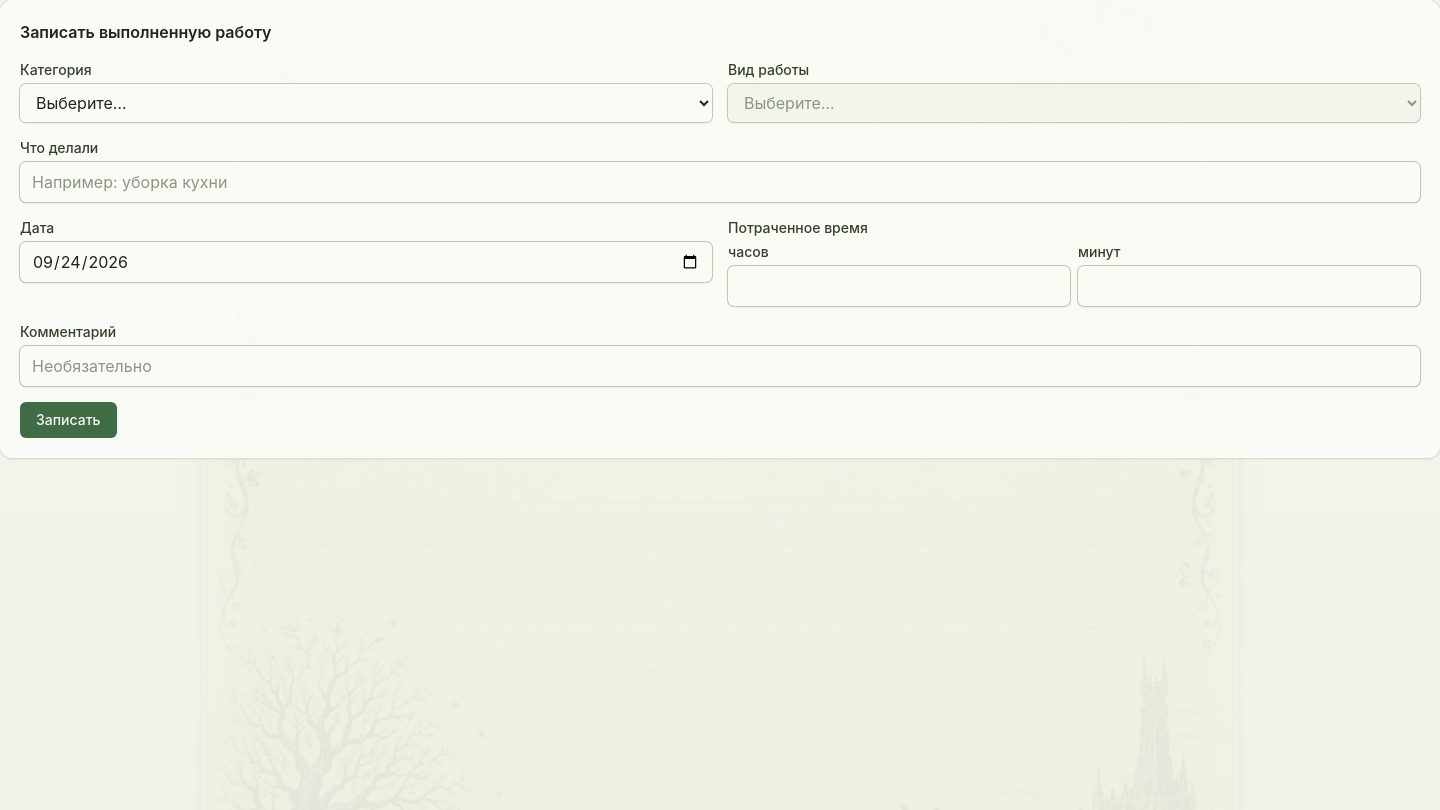
ActivityForm › требует выбрать вид работы
Select "🏠 Домашние обязанности" in the dropdown labelled "Категория": (366, 103) [20,84,712,122]
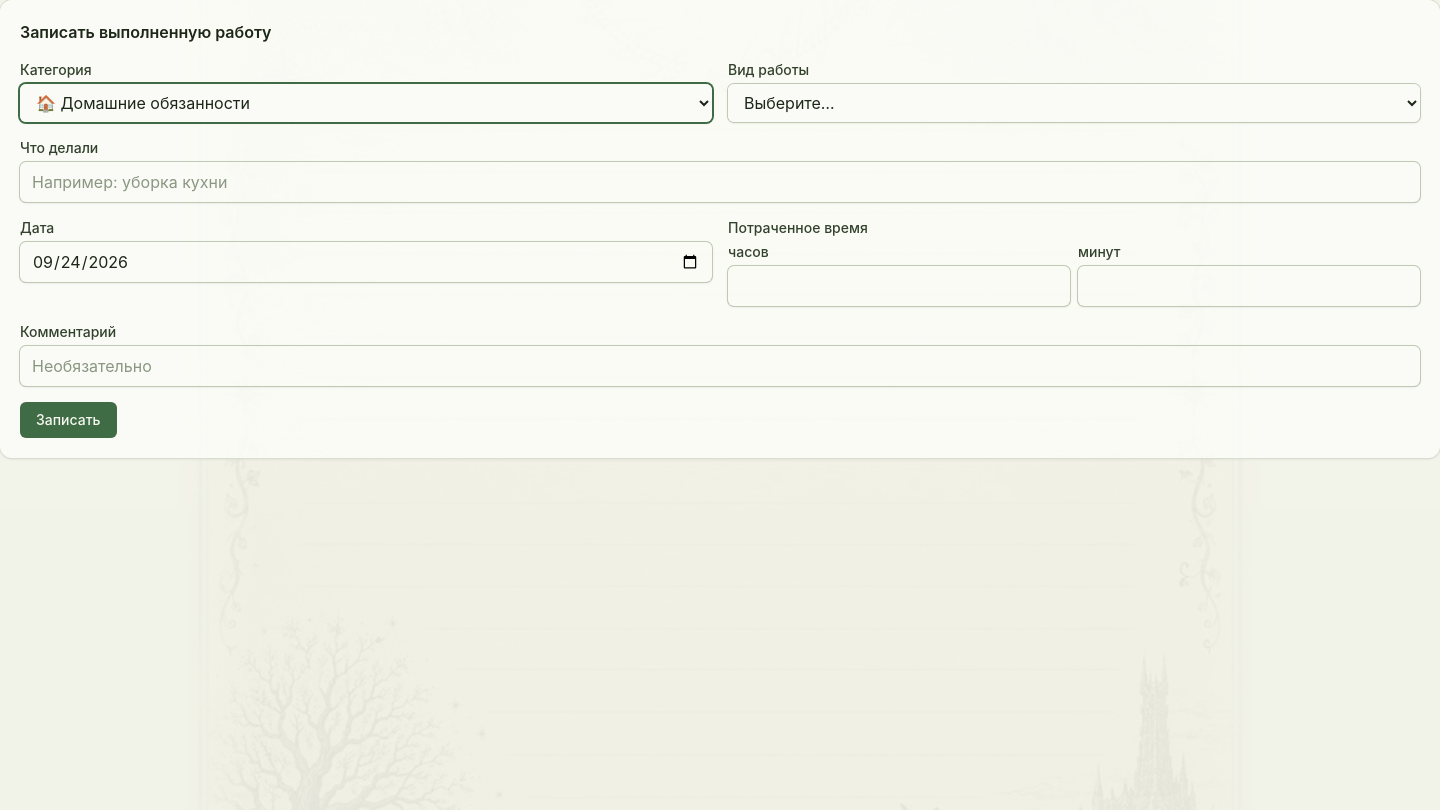
In the field labelled "Что делали": (720, 182) [20,162,1420,202], type "Что-то"
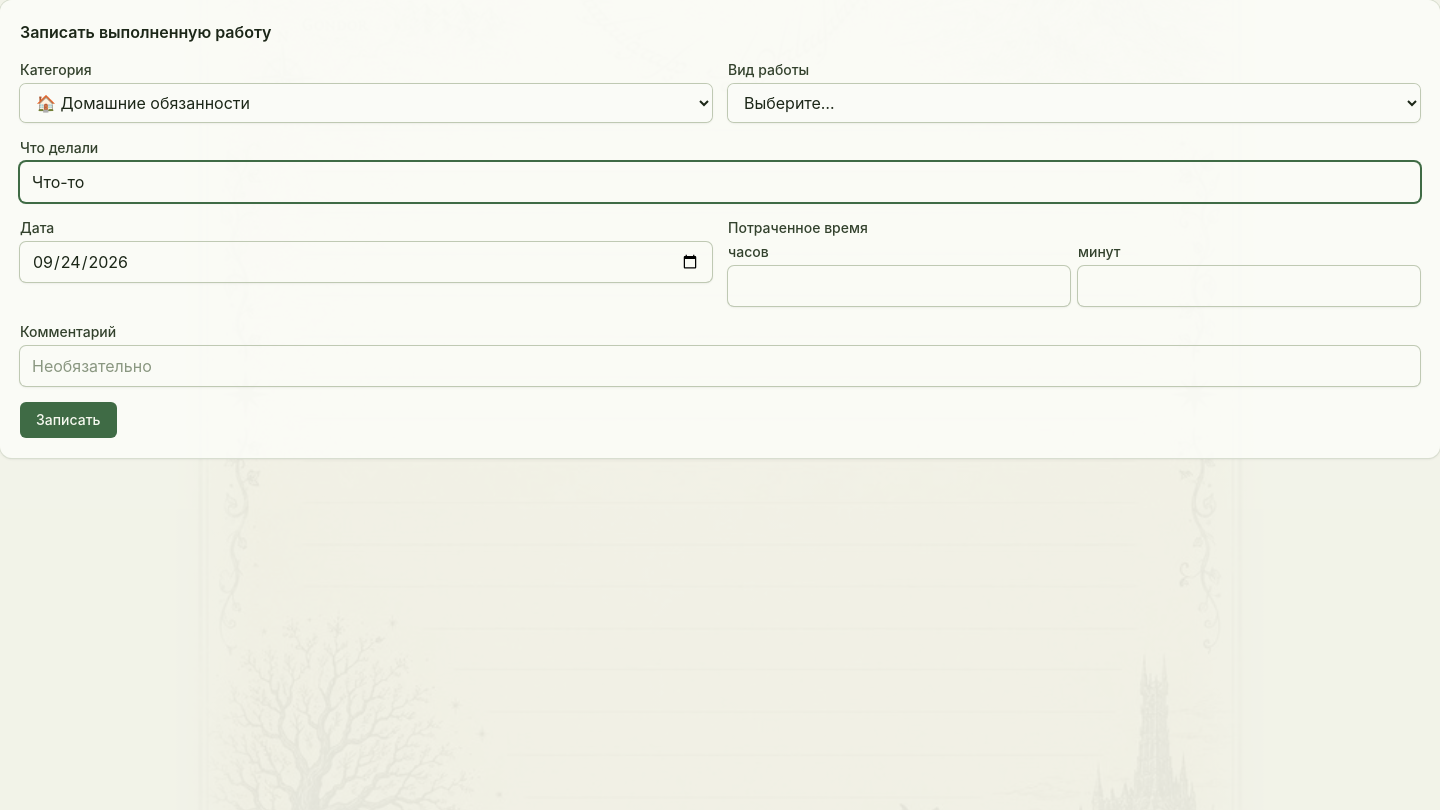
In the number field labelled "часов": (899, 286) [728,266,1070,306], type "1"
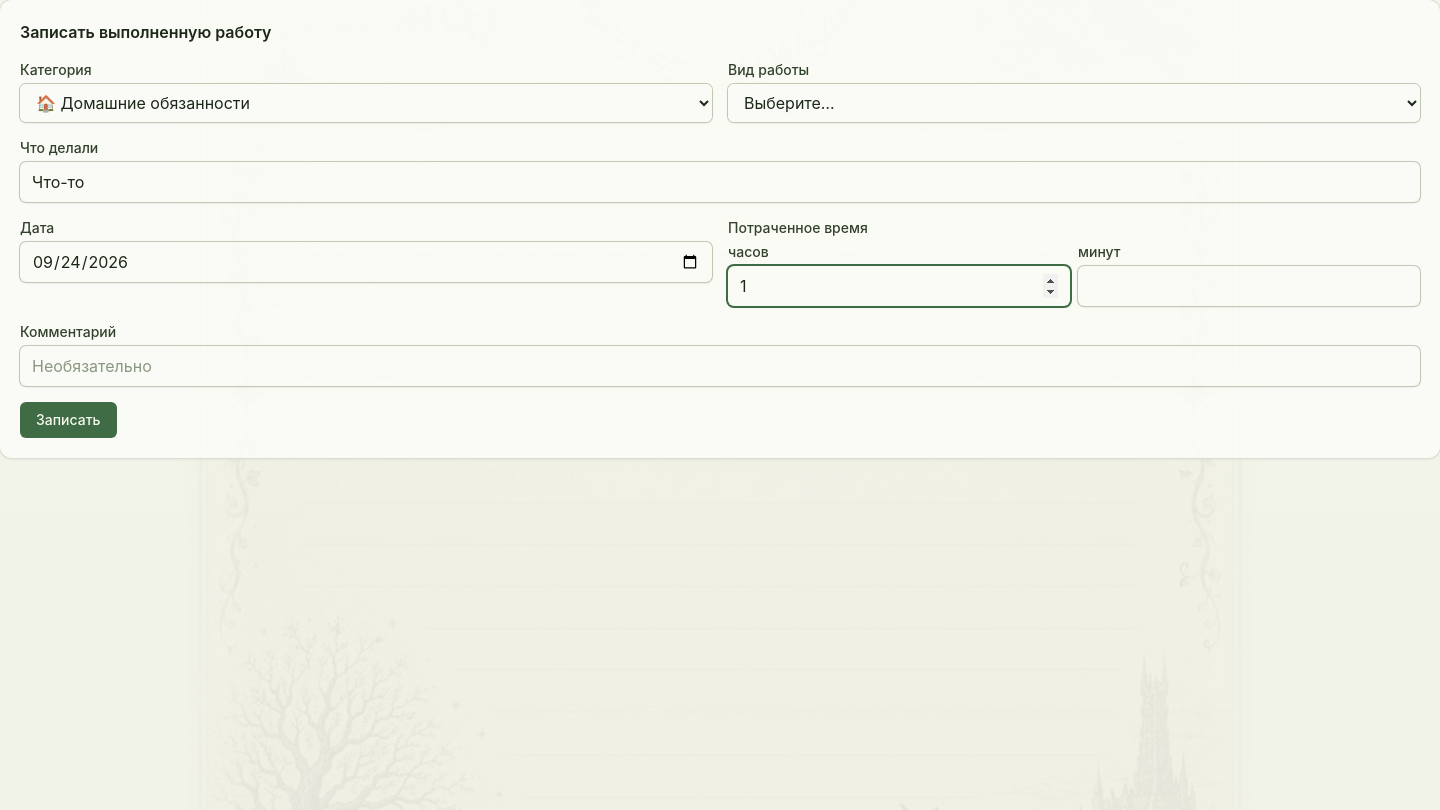
Click the button "Записать": (68, 420) [20,402,116,438]
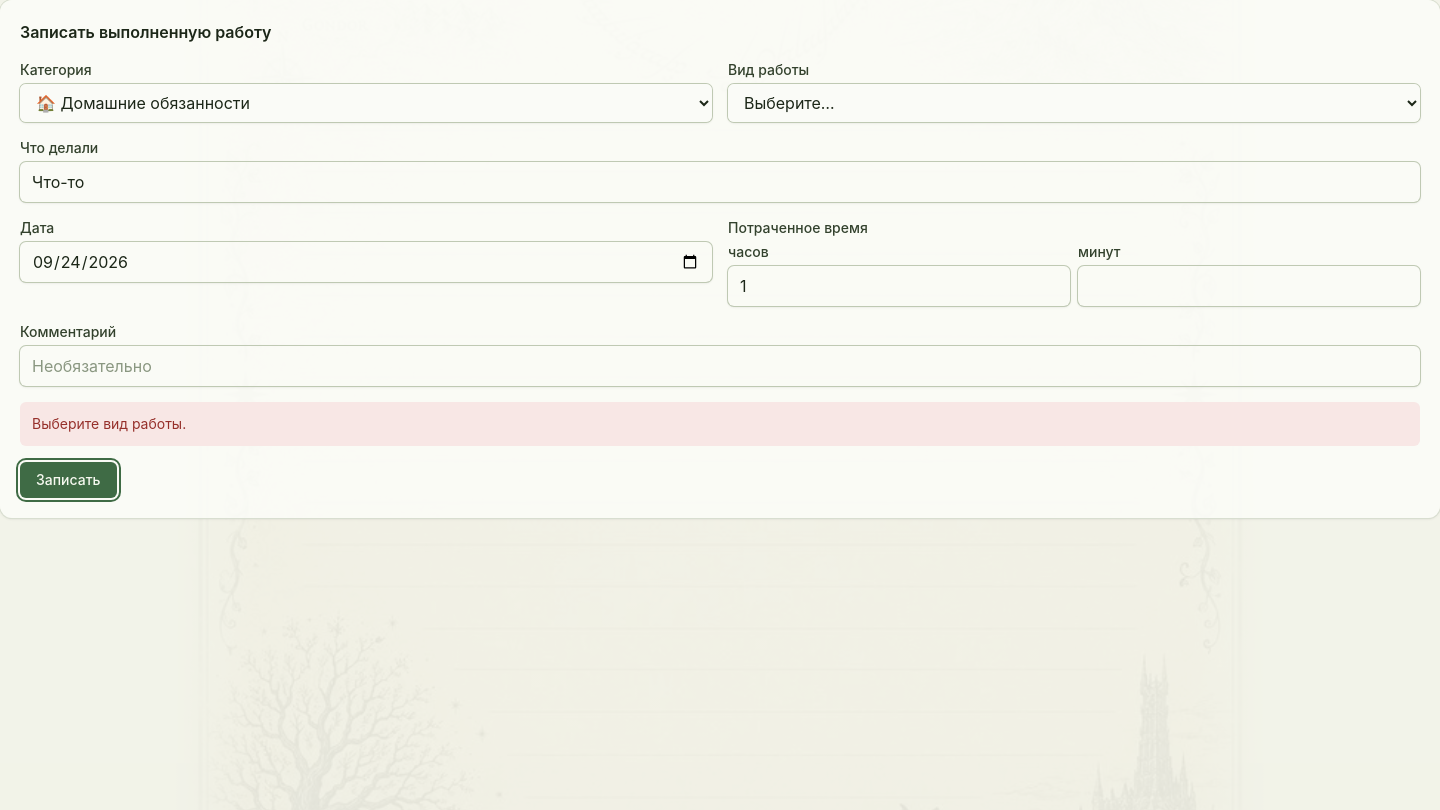
Now the message shows "Выберите вид работы", box [32,415,186,432]
